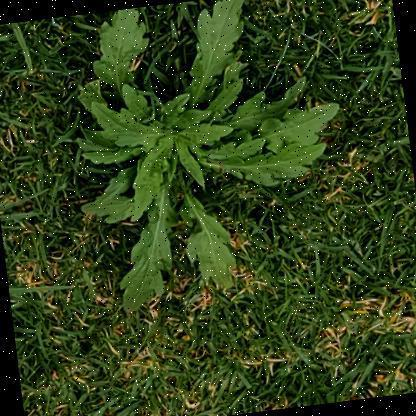Weeds: (57, 0, 364, 316)
